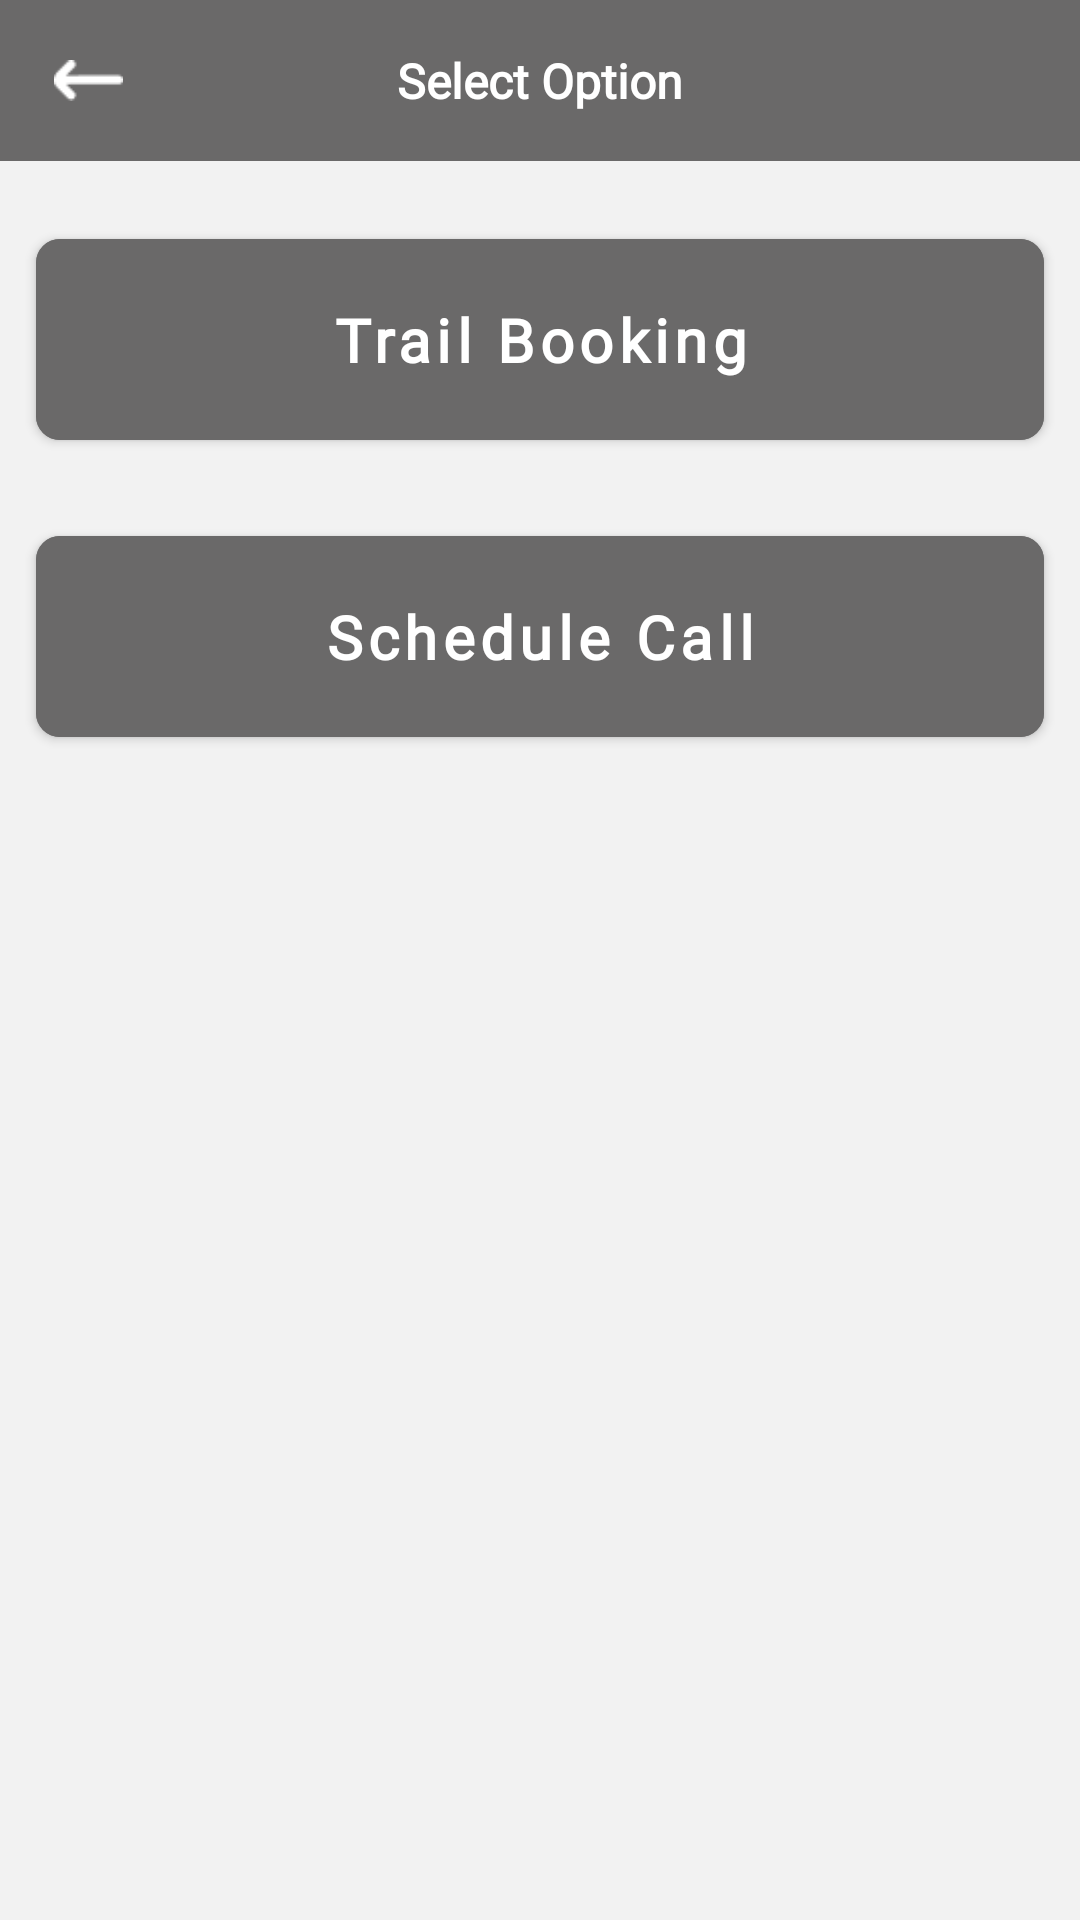

Icon click points for this 1080×1920 phone screenshot, format [x,y]:
arrow left: [88,80]
